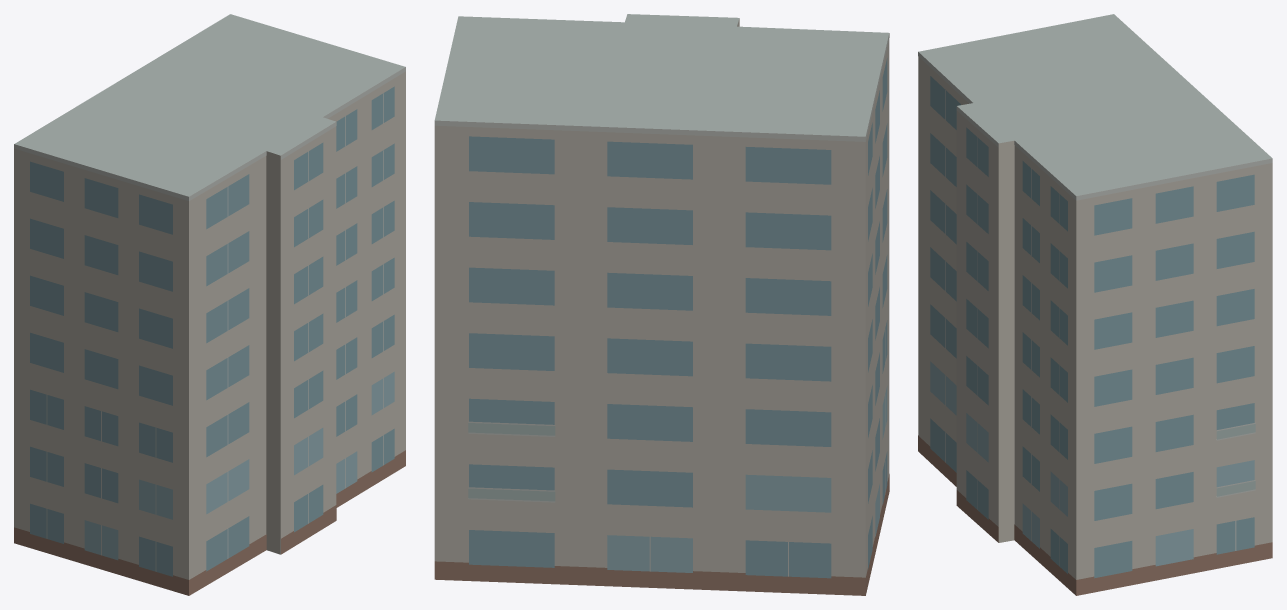
Rendered from survey-upis-32926152.glb.
3 renders of one model, left to right at view 1: azimuth 30°, elevation 25°; view 2: azimuth 150°, elevation 25°; view 3: azimuth 270°, elevation 25°, orthographic. The views are drawn at different scales.
Visible parts, largest first — view 1: survey-upis-32926152.tmp; view 2: survey-upis-32926152.tmp; view 3: survey-upis-32926152.tmp.
Part boxes in pixels (x1,y1,x2,y2): survey-upis-32926152.tmp: [14, 14, 405, 595]; survey-upis-32926152.tmp: [434, 14, 889, 595]; survey-upis-32926152.tmp: [918, 14, 1272, 595].
Size of the model in its own units: 21.37 by 21.85 by 17.57.
